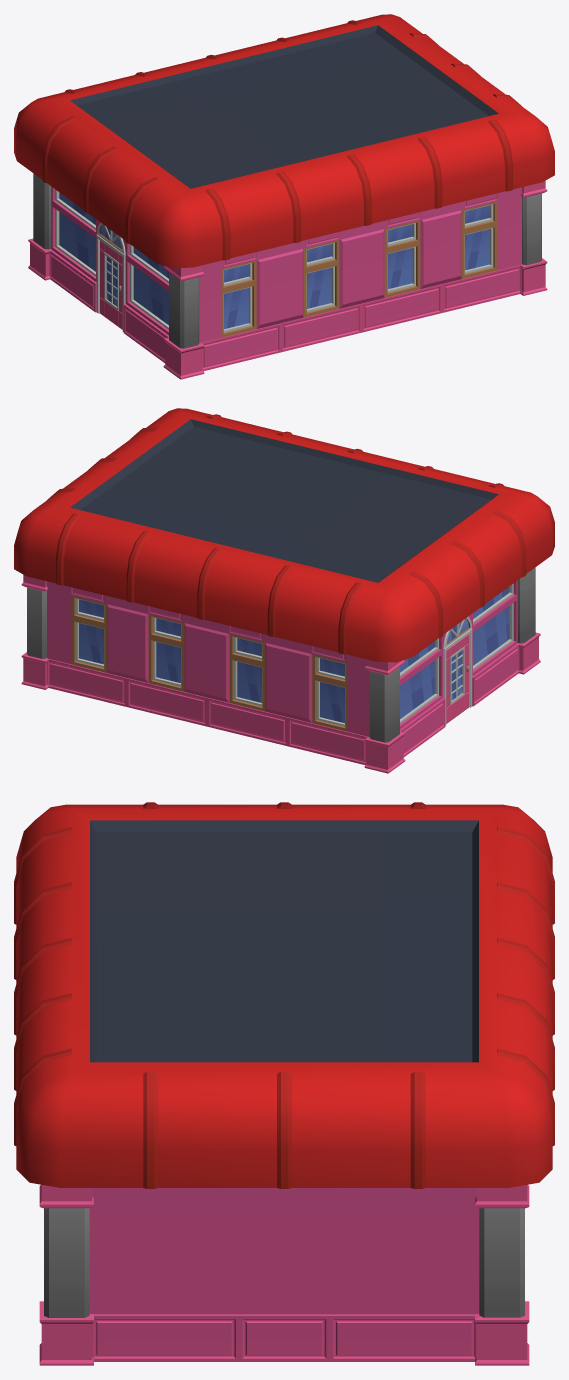
Rendered from Building_12_I.fbx.
3 renders of one model, top to bottom at view 1: azimuth 30°, elevation 25°; view 2: azimuth 150°, elevation 25°; view 3: azimuth 270°, elevation 25°, orthographic. The views are drawn at different scales.
Parts seen in each view (by area): view 1: Building_12_I; view 2: Building_12_I; view 3: Building_12_I.
Part boxes in pixels (x1,y1,x2,y2): Building_12_I: [14, 14, 554, 379]; Building_12_I: [14, 408, 554, 773]; Building_12_I: [14, 802, 554, 1365].
Bounding box in the file's own units: 1053 × 440 × 770.
